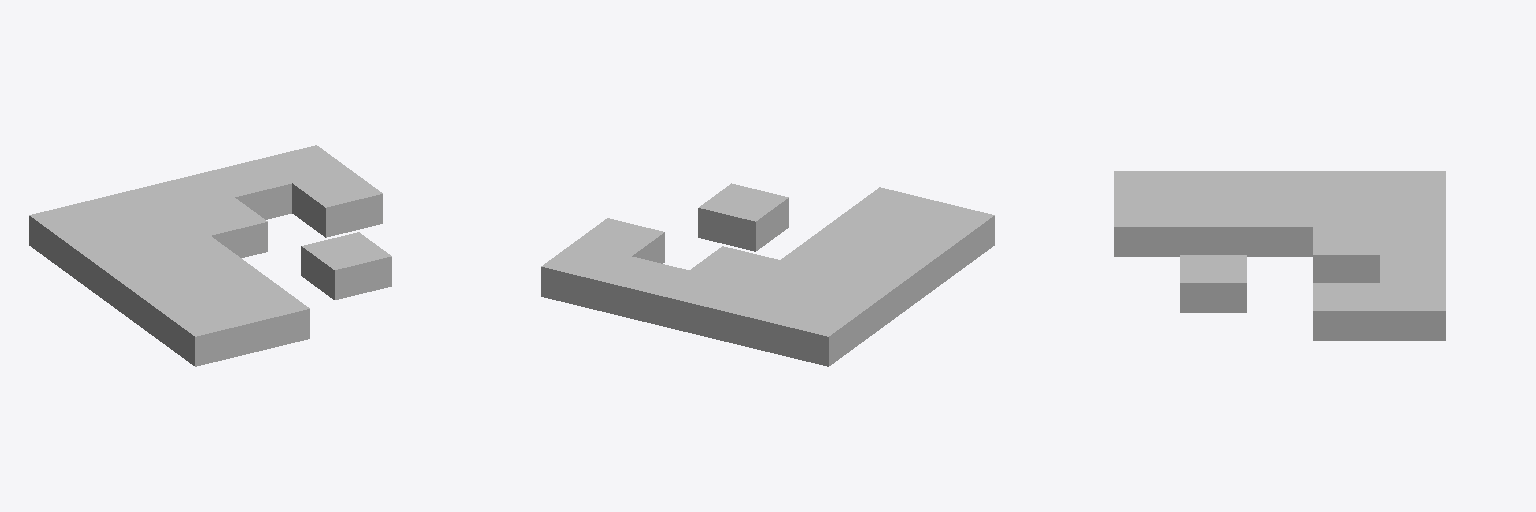
Rendered from 9f_block.obj.
The picture shows the model from 3 angles: view 1: azimuth 30°, elevation 25°; view 2: azimuth 150°, elevation 25°; view 3: azimuth 270°, elevation 25°; orthographic projection.
Parts seen in each view (by area): view 1: foil.block.4.3_block.2855, foil.block.3.1_block.2852, foil.block.0.0_block.2840, foil.block.1.0_block.2845, foil.block.2.3_block.2850, foil.block.3.4_block.2854, foil.block.0.3_block.2843, foil.block.0.4_block.2844, foil.block.0.2_block.2842, foil.block.0.1_block.2841, foil.block.2.4_block.2851, foil.block.1.1_block.2846 (+4 smaller); view 2: foil.block.0.4_block.2844, foil.block.3.1_block.2852, foil.block.4.4_block.2856, foil.block.2.4_block.2851, foil.block.1.4_block.2849, foil.block.3.4_block.2854, foil.block.0.1_block.2841, foil.block.0.0_block.2840, foil.block.0.2_block.2842, foil.block.0.3_block.2843, foil.block.4.3_block.2855, foil.block.1.1_block.2846 (+4 smaller); view 3: foil.block.3.1_block.2852, foil.block.4.3_block.2855, foil.block.1.0_block.2845, foil.block.1.2_block.2847, foil.block.4.4_block.2856, foil.block.1.1_block.2846, foil.block.2.3_block.2850, foil.block.0.1_block.2841, foil.block.0.3_block.2843, foil.block.1.3_block.2848, foil.block.0.0_block.2840, foil.block.0.2_block.2842 (+4 smaller).
Boxes of the visible parts, x1=… form: foil.block.4.3_block.2855: x1=292, y1=169, x2=382, y2=237; foil.block.3.1_block.2852: x1=301, y1=232, x2=391, y2=299; foil.block.0.0_block.2840: x1=162, y1=298, x2=252, y2=366; foil.block.1.0_block.2845: x1=220, y1=285, x2=309, y2=352; foil.block.2.3_block.2850: x1=177, y1=198, x2=267, y2=257; foil.block.3.4_block.2854: x1=202, y1=159, x2=291, y2=219; foil.block.0.3_block.2843: x1=62, y1=226, x2=152, y2=293; foil.block.0.4_block.2844: x1=29, y1=201, x2=119, y2=268; foil.block.0.2_block.2842: x1=96, y1=250, x2=184, y2=317; foil.block.0.1_block.2841: x1=129, y1=274, x2=218, y2=341; foil.block.2.4_block.2851: x1=145, y1=173, x2=234, y2=210; foil.block.1.1_block.2846: x1=187, y1=260, x2=276, y2=297; foil.block.0.4_block.2844: x1=771, y1=298, x2=861, y2=366; foil.block.3.1_block.2852: x1=698, y1=183, x2=788, y2=251; foil.block.4.4_block.2856: x1=541, y1=242, x2=631, y2=310; foil.block.2.4_block.2851: x1=656, y1=270, x2=746, y2=338; foil.block.1.4_block.2849: x1=714, y1=285, x2=803, y2=352; foil.block.3.4_block.2854: x1=599, y1=257, x2=688, y2=324; foil.block.0.1_block.2841: x1=871, y1=226, x2=961, y2=293; foil.block.0.0_block.2840: x1=904, y1=201, x2=994, y2=268; foil.block.0.2_block.2842: x1=839, y1=250, x2=927, y2=317; foil.block.0.3_block.2843: x1=805, y1=274, x2=894, y2=341; foil.block.4.3_block.2855: x1=575, y1=218, x2=664, y2=263; foil.block.1.1_block.2846: x1=814, y1=212, x2=903, y2=249; foil.block.3.1_block.2852: x1=1180, y1=255, x2=1246, y2=312; foil.block.4.3_block.2855: x1=1313, y1=283, x2=1379, y2=340; foil.block.1.0_block.2845: x1=1114, y1=199, x2=1179, y2=256; foil.block.1.2_block.2847: x1=1247, y1=199, x2=1312, y2=256; foil.block.4.4_block.2856: x1=1380, y1=283, x2=1445, y2=340; foil.block.1.1_block.2846: x1=1180, y1=199, x2=1246, y2=254; foil.block.2.3_block.2850: x1=1313, y1=227, x2=1379, y2=282; foil.block.0.1_block.2841: x1=1180, y1=171, x2=1246, y2=198; foil.block.0.3_block.2843: x1=1313, y1=171, x2=1379, y2=198; foil.block.1.3_block.2848: x1=1313, y1=199, x2=1379, y2=226; foil.block.0.0_block.2840: x1=1114, y1=171, x2=1179, y2=198; foil.block.0.2_block.2842: x1=1247, y1=171, x2=1312, y2=198.
Bounding box in the file's own units: 10 × 1 × 10.